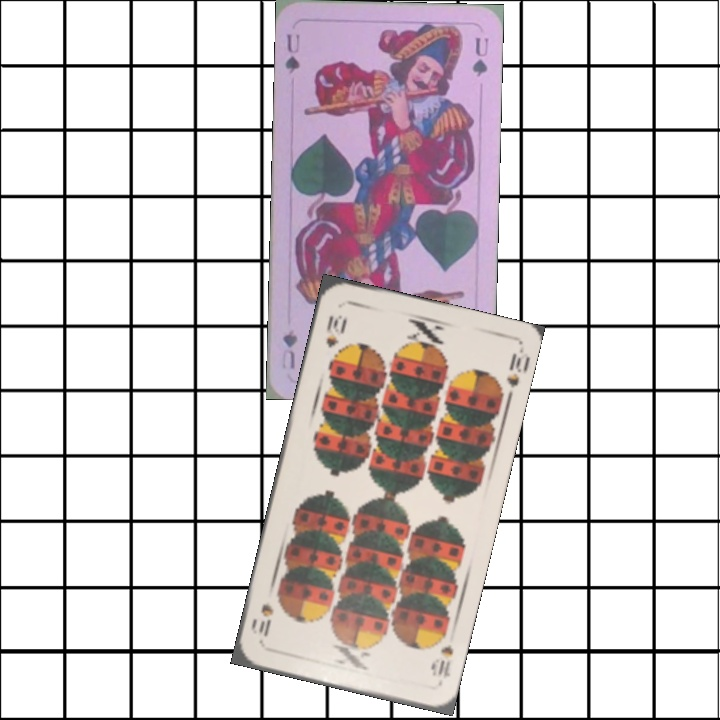GU: (281, 30, 303, 76)
S10: (427, 627, 456, 682), (322, 310, 348, 351)
